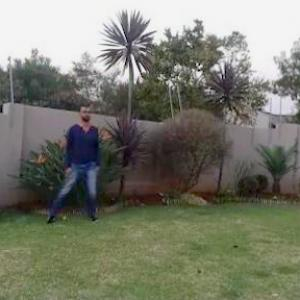follow: (66, 101, 102, 225)
